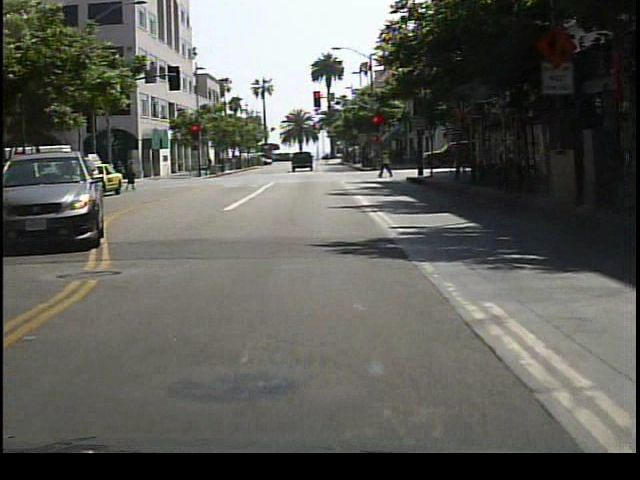person: (377, 149, 394, 179), (408, 145, 424, 175), (126, 158, 139, 193)
